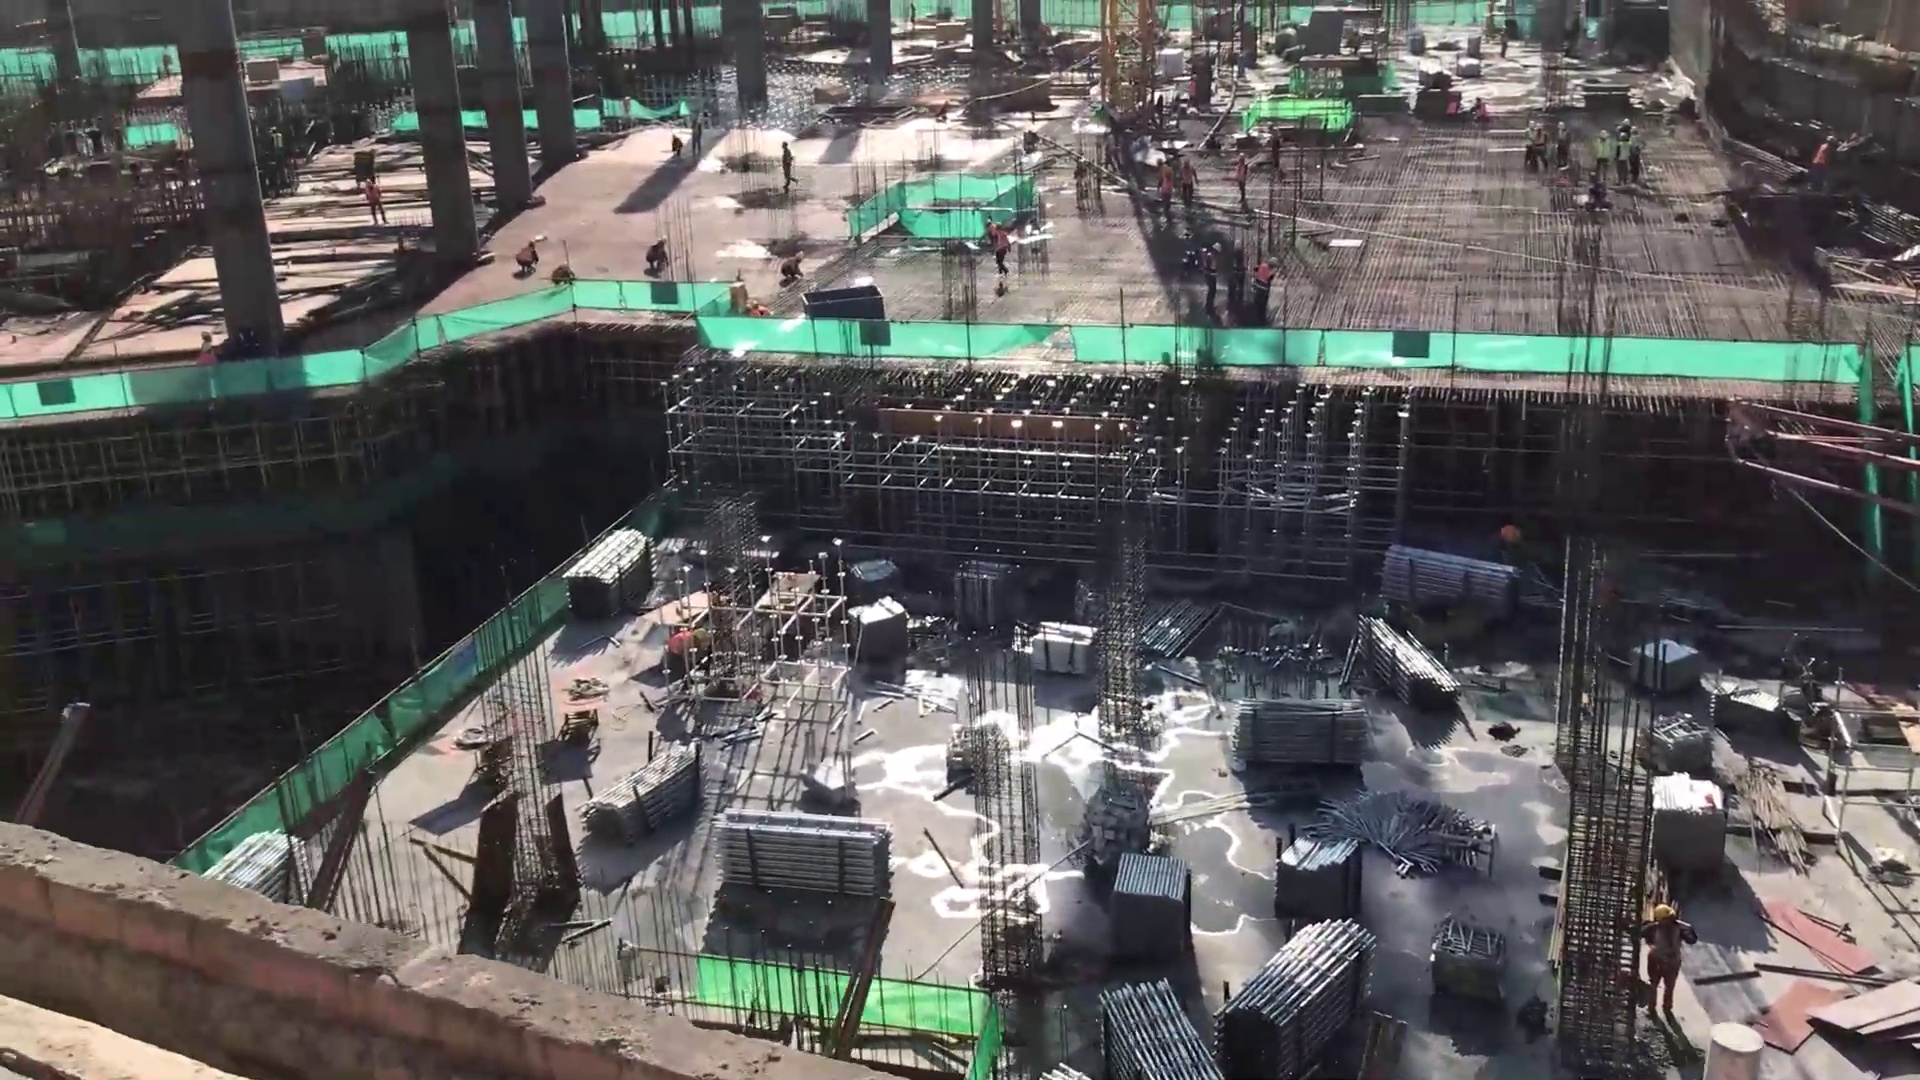board: (1815, 969, 1920, 1046)
helmet: (1655, 907, 1676, 923)
person: (1638, 901, 1693, 1029), (665, 630, 709, 678), (1252, 252, 1278, 321), (357, 176, 392, 224), (981, 217, 1011, 272), (1810, 135, 1837, 192), (638, 230, 670, 274), (1203, 238, 1220, 316), (776, 142, 800, 193), (1154, 164, 1174, 218), (513, 235, 541, 272), (193, 330, 217, 369), (1179, 159, 1199, 207), (1234, 241, 1248, 312), (777, 249, 806, 281), (1594, 129, 1610, 182), (1235, 152, 1250, 203), (1631, 127, 1644, 182), (1616, 130, 1628, 185), (1556, 119, 1569, 170), (1535, 123, 1549, 169), (688, 119, 705, 156), (1469, 98, 1492, 123), (665, 133, 685, 159), (1523, 119, 1533, 164), (1617, 118, 1634, 141)
scaffold: (1226, 918, 1383, 1064), (718, 806, 889, 901), (592, 743, 719, 847), (1227, 696, 1378, 775), (1101, 974, 1215, 1080), (1356, 611, 1461, 712), (1377, 545, 1513, 611), (197, 829, 309, 903), (565, 524, 653, 614), (1271, 832, 1363, 918), (1652, 770, 1728, 866), (1114, 850, 1187, 925), (1141, 594, 1215, 660), (845, 596, 906, 660), (1029, 620, 1097, 674)
